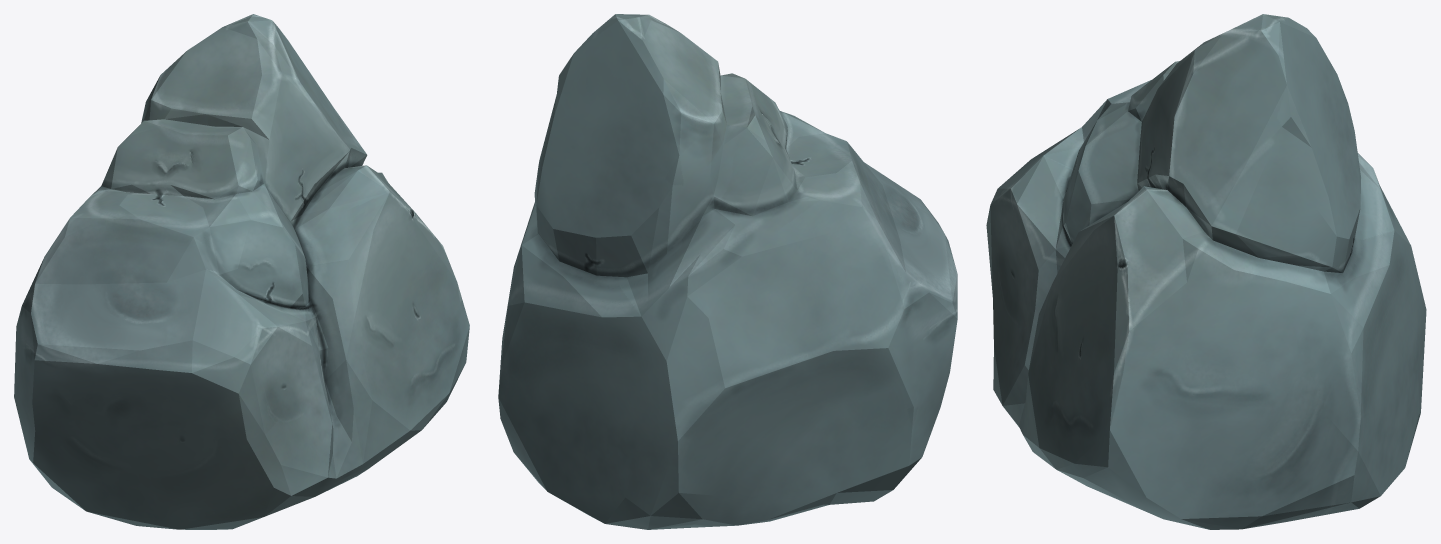
Rendered from Hand-painted_rock.glb.
3 renders of one model, left to right at view 1: azimuth 30°, elevation 25°; view 2: azimuth 150°, elevation 25°; view 3: azimuth 270°, elevation 25°, orthographic. The views are drawn at different scales.
Parts seen in each view (by area): view 1: unnamed; view 2: unnamed; view 3: unnamed.
Boxes of the visible parts, left/top/right/bottom form: unnamed: left=14, top=14, right=469, bottom=529; unnamed: left=498, top=14, right=957, bottom=529; unnamed: left=986, top=14, right=1426, bottom=529.
Bounding box in the file's own units: 1.99 × 1.99 × 1.64.
Materials: 1 (1 with a texture image).
